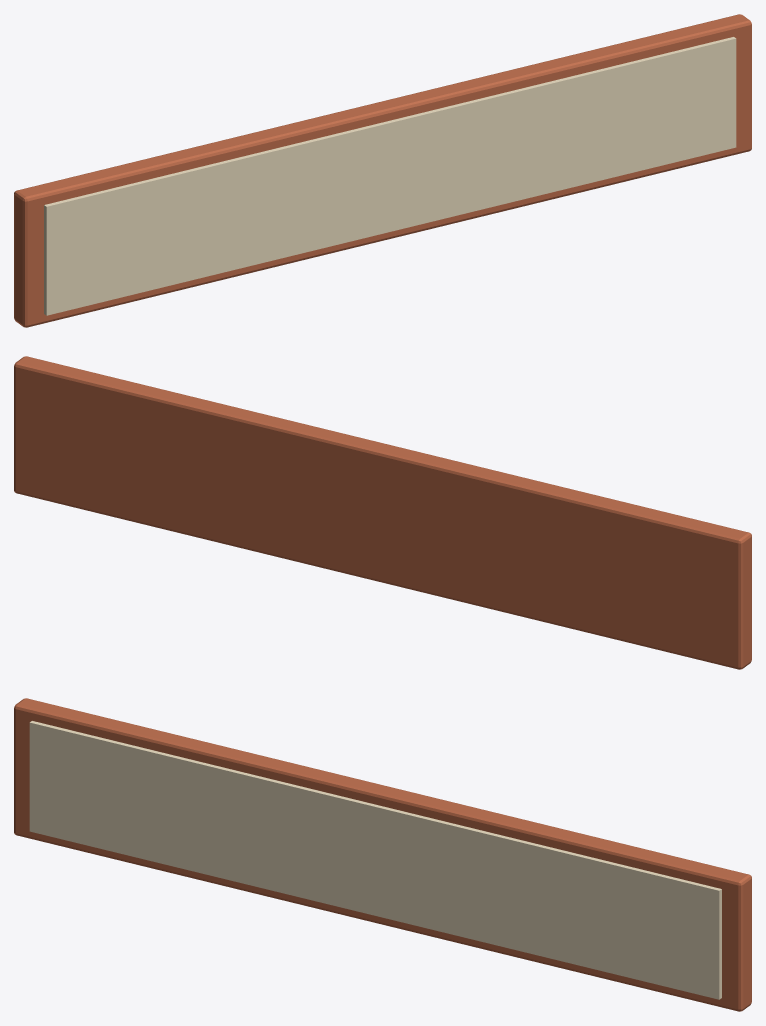
Rendered from tpe5_runtime_plaque_wide.glb.
3 views of the same model, one above another, from view 1: azimuth 30°, elevation 25°; view 2: azimuth 150°, elevation 25°; view 3: azimuth 330°, elevation 25° (orthographic).
Parts seen in each view (by area): view 1: tpe5_runtime_plaque_wide__tpe5-street-ivory, tpe5_runtime_plaque_wide__tpe5-street-cinnabar; view 2: tpe5_runtime_plaque_wide__tpe5-street-cinnabar; view 3: tpe5_runtime_plaque_wide__tpe5-street-ivory, tpe5_runtime_plaque_wide__tpe5-street-cinnabar.
Boxes of the visible parts, left/top/right/bottom form: tpe5_runtime_plaque_wide__tpe5-street-ivory: left=44, top=37, right=736, bottom=315; tpe5_runtime_plaque_wide__tpe5-street-cinnabar: left=14, top=14, right=751, bottom=327; tpe5_runtime_plaque_wide__tpe5-street-cinnabar: left=14, top=356, right=751, bottom=669; tpe5_runtime_plaque_wide__tpe5-street-ivory: left=29, top=721, right=721, bottom=999; tpe5_runtime_plaque_wide__tpe5-street-cinnabar: left=14, top=698, right=751, bottom=1011.
Bounding box in the file's own units: 5.6 × 0.96 × 0.1925.
